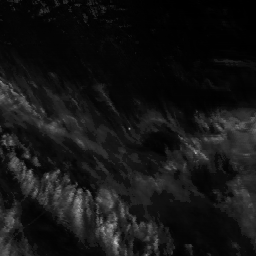Target: (127, 126, 132, 131)
